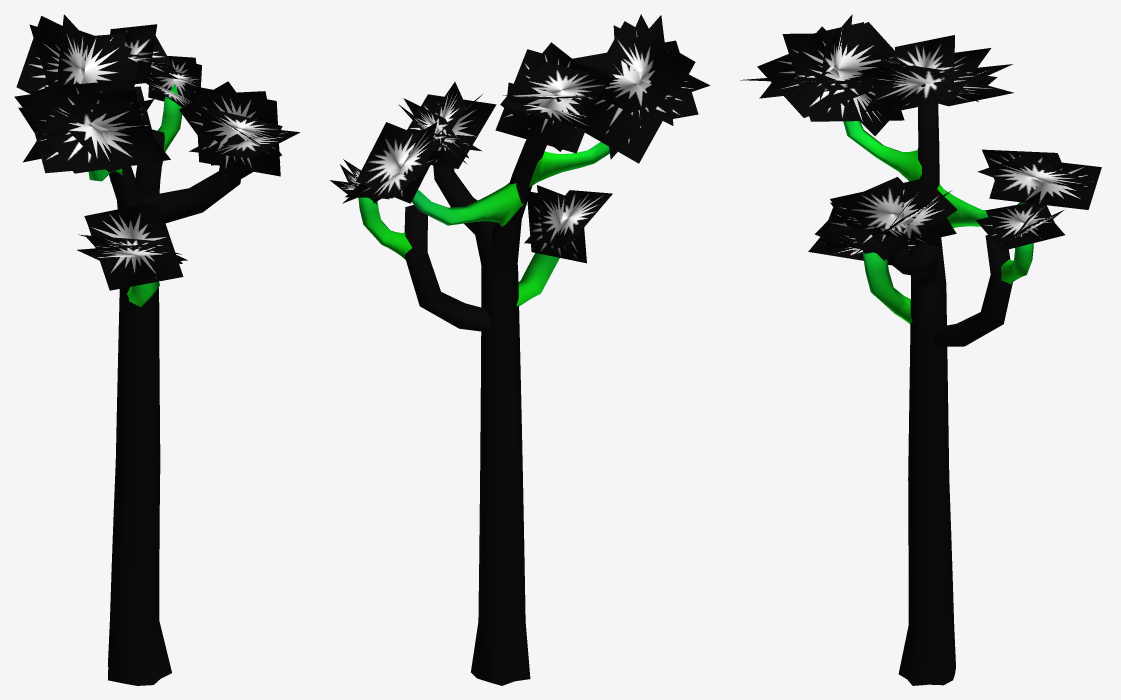
File: SM_JoshuaTree02.fbx
3 views of the same model, side by side, from view 1: azimuth 30°, elevation 25°; view 2: azimuth 150°, elevation 25°; view 3: azimuth 270°, elevation 25° (orthographic). The views are drawn at different scales.
Parts seen in each view (by area): view 1: t_joshua_002, SM_JoshuaTree02; view 2: SM_JoshuaTree02, t_joshua_002; view 3: t_joshua_002, SM_JoshuaTree02.
Boxes of the visible parts, x1=… form: t_joshua_002: x1=14, y1=14, x2=299, y2=290; SM_JoshuaTree02: x1=88, y1=84, x2=244, y2=685; SM_JoshuaTree02: x1=358, y1=98, x2=609, y2=685; t_joshua_002: x1=329, y1=14, x2=710, y2=263; t_joshua_002: x1=740, y1=14, x2=1101, y2=265; SM_JoshuaTree02: x1=843, y1=84, x2=1033, y2=685.
Bounding box in the file's own units: 269 × 625 × 340.
